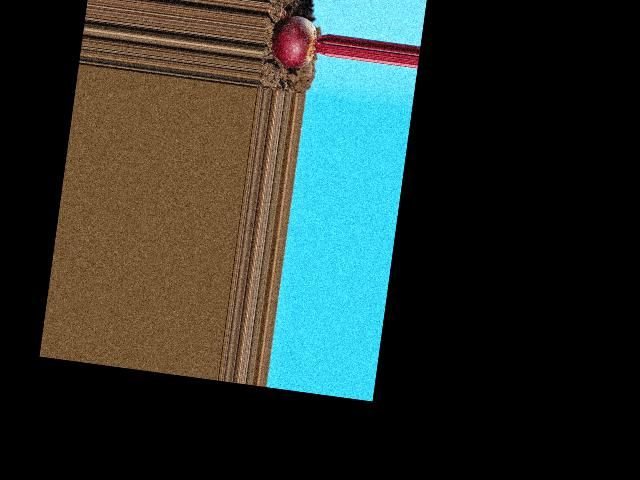beet: (269, 12, 330, 71)
